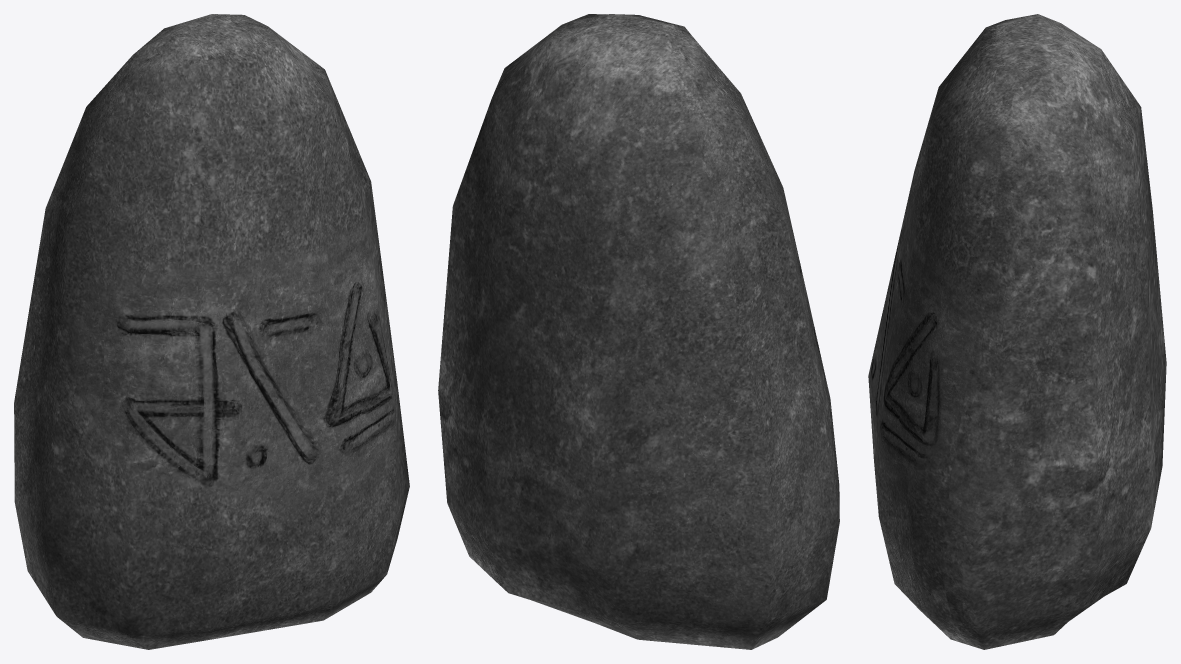
File: Tablet.fbx
The picture shows the model from 3 angles, left to right: view 1: azimuth 30°, elevation 25°; view 2: azimuth 150°, elevation 25°; view 3: azimuth 270°, elevation 25°; orthographic projection. The views are drawn at different scales.
Parts seen in each view (by area): view 1: Tablet; view 2: Tablet; view 3: Tablet.
Boxes of the visible parts, <box> form: Tablet: <box>14,14,409,649</box>; Tablet: <box>438,14,839,649</box>; Tablet: <box>868,14,1166,649</box>.
Size of the model in its own units: 81.85 by 126 by 61.24.
